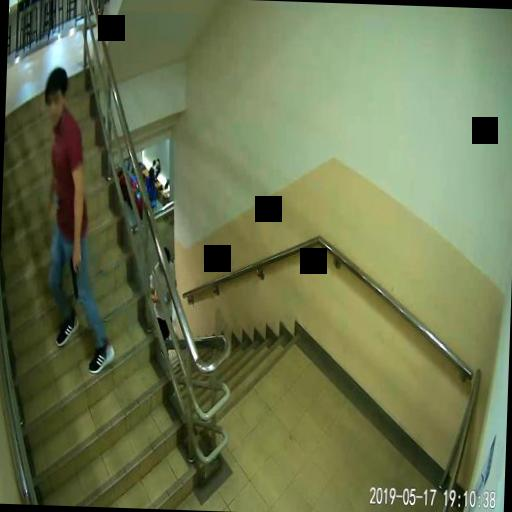Handgun: (66, 250, 82, 296)
